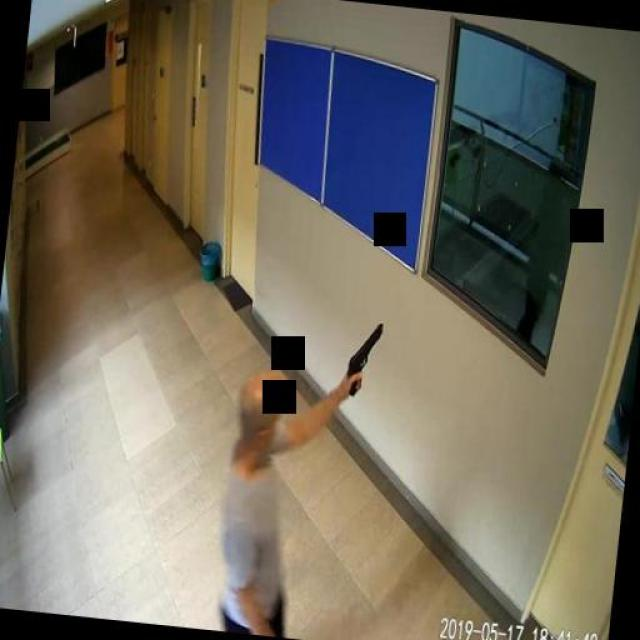gun: (344, 319, 381, 396)
